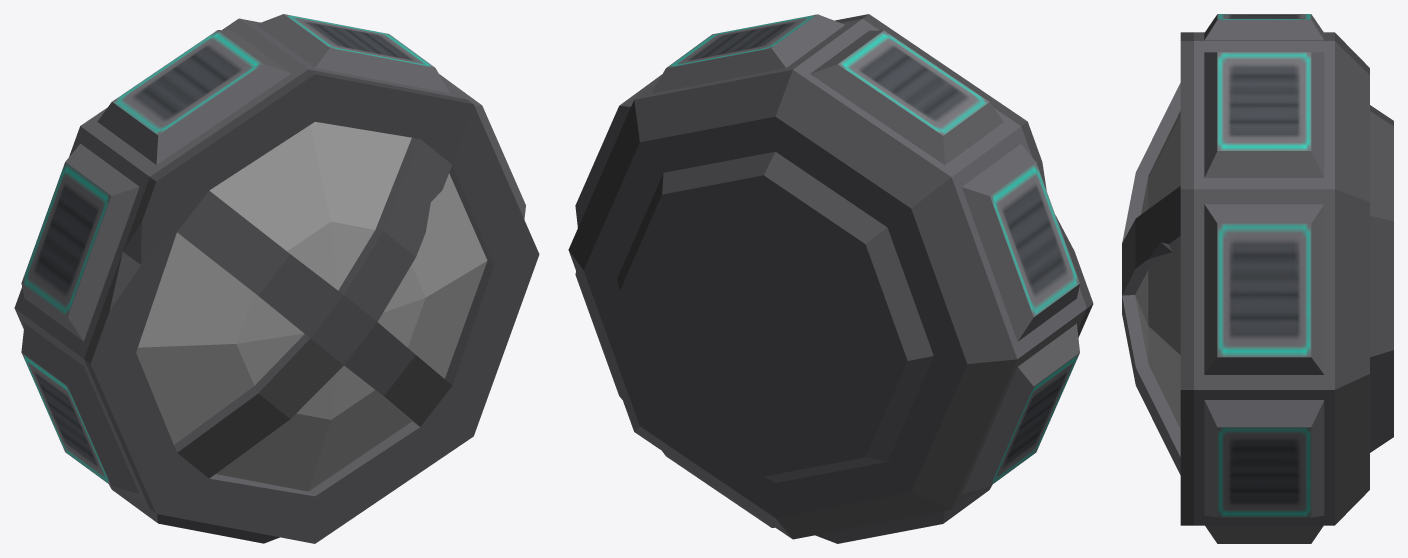
Rendered from SM_Prop_Street_Light_01.fbx.
3 renders of one model, left to right at view 1: azimuth 30°, elevation 25°; view 2: azimuth 150°, elevation 25°; view 3: azimuth 270°, elevation 25°, orthographic.
Parts seen in each view (by area): view 1: SM_Prop_Street_Light_01; view 2: SM_Prop_Street_Light_01; view 3: SM_Prop_Street_Light_01.
Boxes of the visible parts, bbox=[...] form: SM_Prop_Street_Light_01: bbox=[14, 14, 539, 543]; SM_Prop_Street_Light_01: bbox=[568, 14, 1093, 543]; SM_Prop_Street_Light_01: bbox=[1122, 14, 1393, 543].
Bounding box in the file's own units: 42.13 × 42.13 × 21.36.
